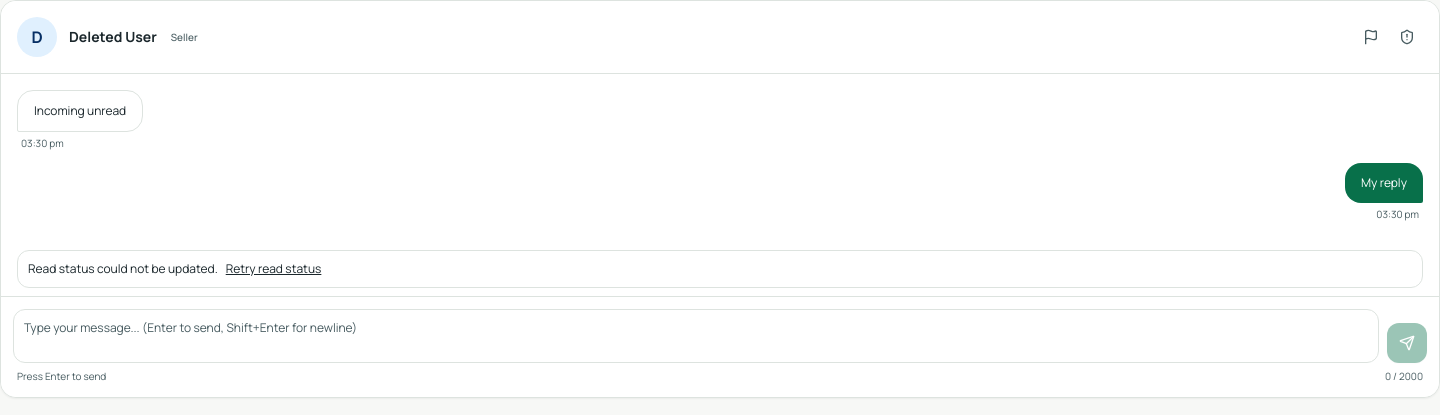
HDR-03 viewed-thread read cursor › reports a denied action, does not fake a count change, and retries only on request
expect the message shows "Read status could not be updated": met, box [28,260,218,277]
Step 1. Click the button "Retry read status" → (274, 269), box [226,261,321,277]
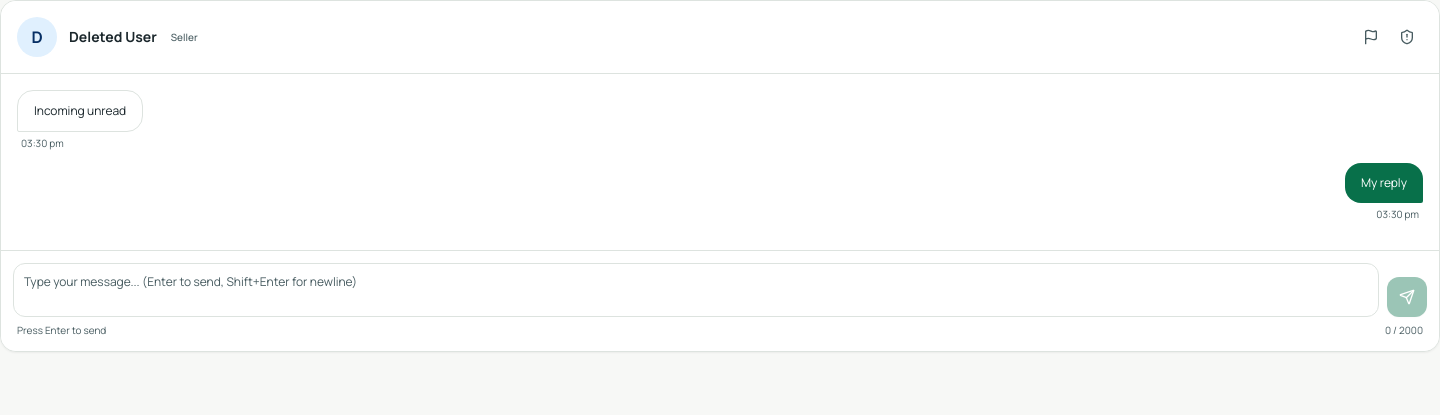
expect the message "Read status could not be updated. Retry read status" is gone: met
